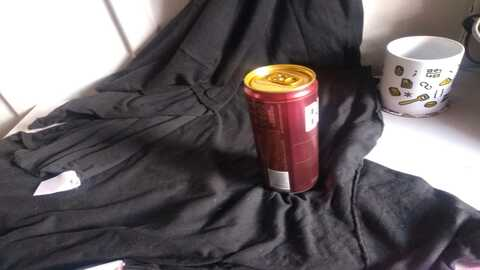duplo_malte: (240, 59, 330, 196)
